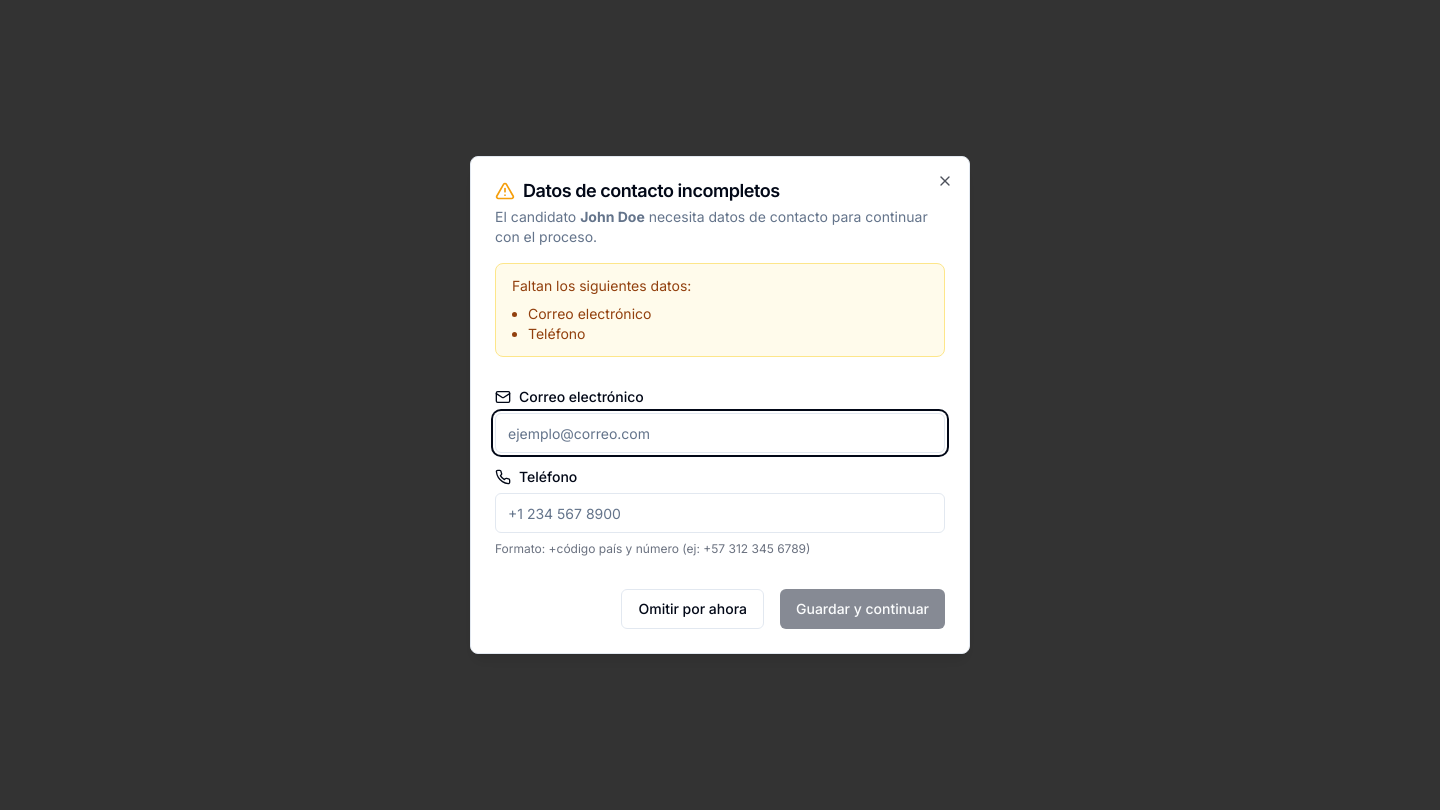
Test: MissingContactModal › should validate email format
Type "invalid-email" into the field with placeholder "ejemplo@correo.com". click: (720, 433)
box: 495,413 -> 945,453
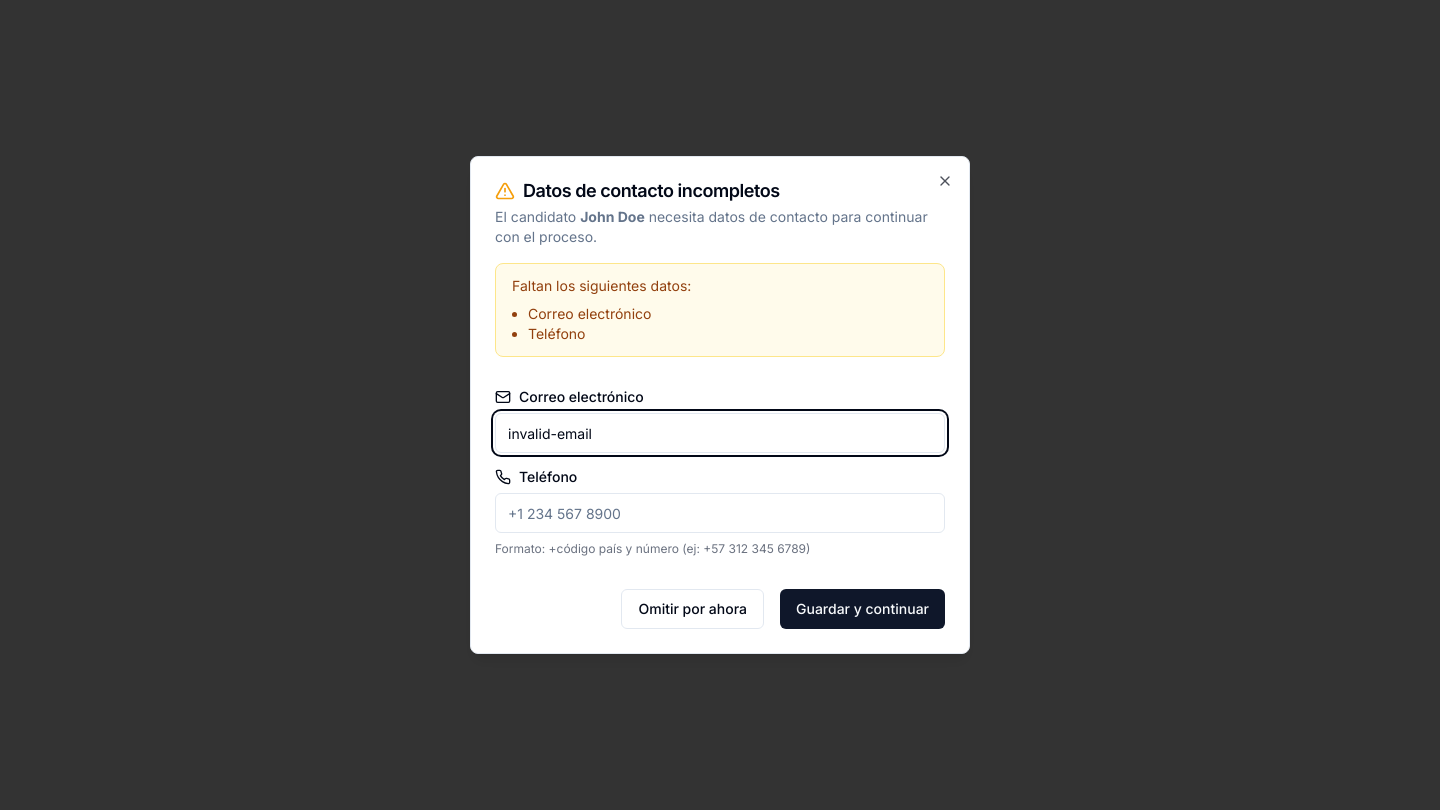
Click the button "Guardar y continuar". click: (862, 609)
box: 780,589 -> 945,629
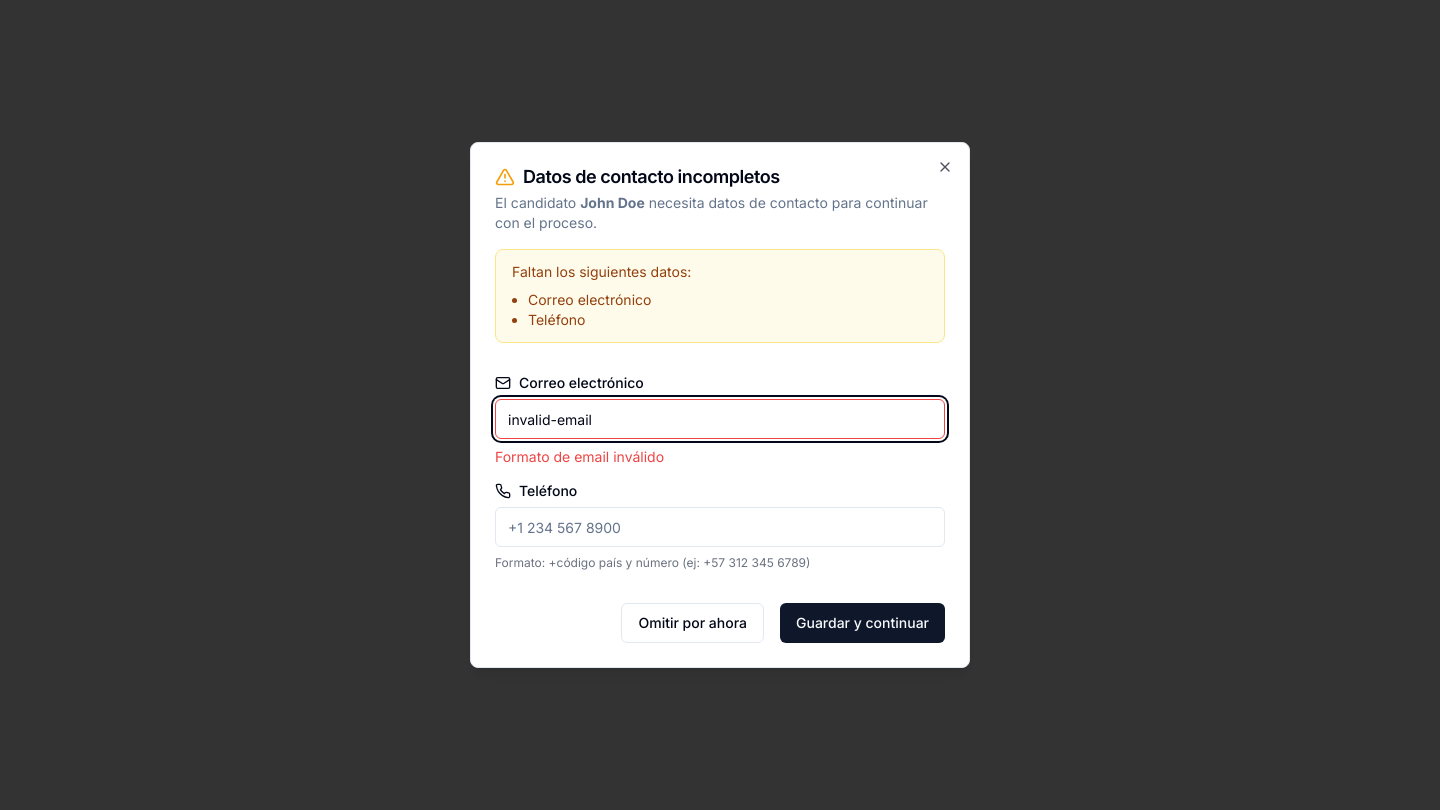
Expected: the text "Formato de email inválido" is shown, 495,448 -> 664,465
